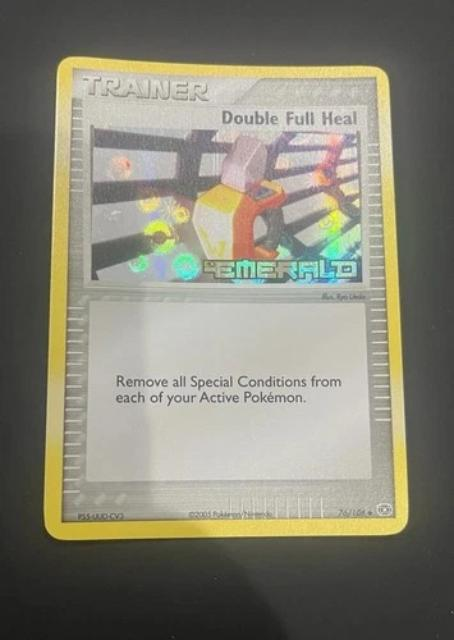Card: (37, 49, 415, 547)
Name: (216, 107, 363, 131)
